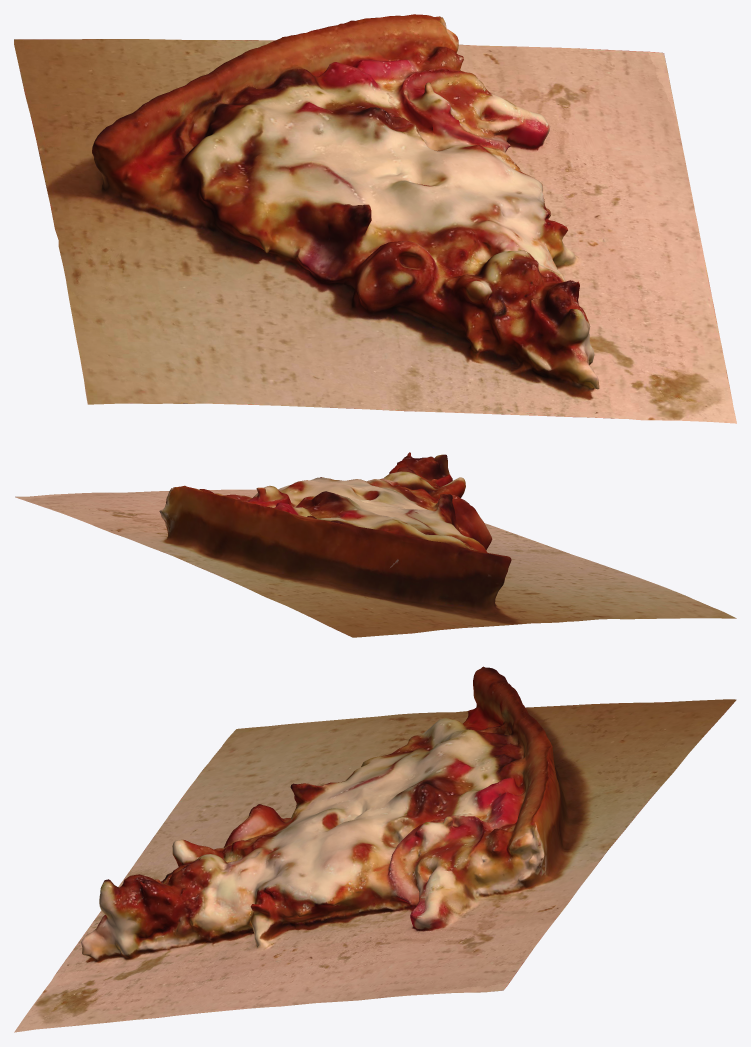
Rendered from pizzaslice.glb.
3 views of the same model, one above another, from view 1: azimuth 30°, elevation 25°; view 2: azimuth 150°, elevation 25°; view 3: azimuth 270°, elevation 25° (orthographic). The views are drawn at different scales.
Parts seen in each view (by area): view 1: pizza_slice_pizza_slice_2k.001; view 2: pizza_slice_pizza_slice_2k.001; view 3: pizza_slice_pizza_slice_2k.001.
Boxes of the visible parts, x1,y1,x2,y2 form: pizza_slice_pizza_slice_2k.001: (14,14,736,423); pizza_slice_pizza_slice_2k.001: (15,452,736,637); pizza_slice_pizza_slice_2k.001: (14,666,736,1032).
Bounding box in the file's own units: 17.84 × 5.24 × 16.49.
Materials: 1 (1 with a texture image).
